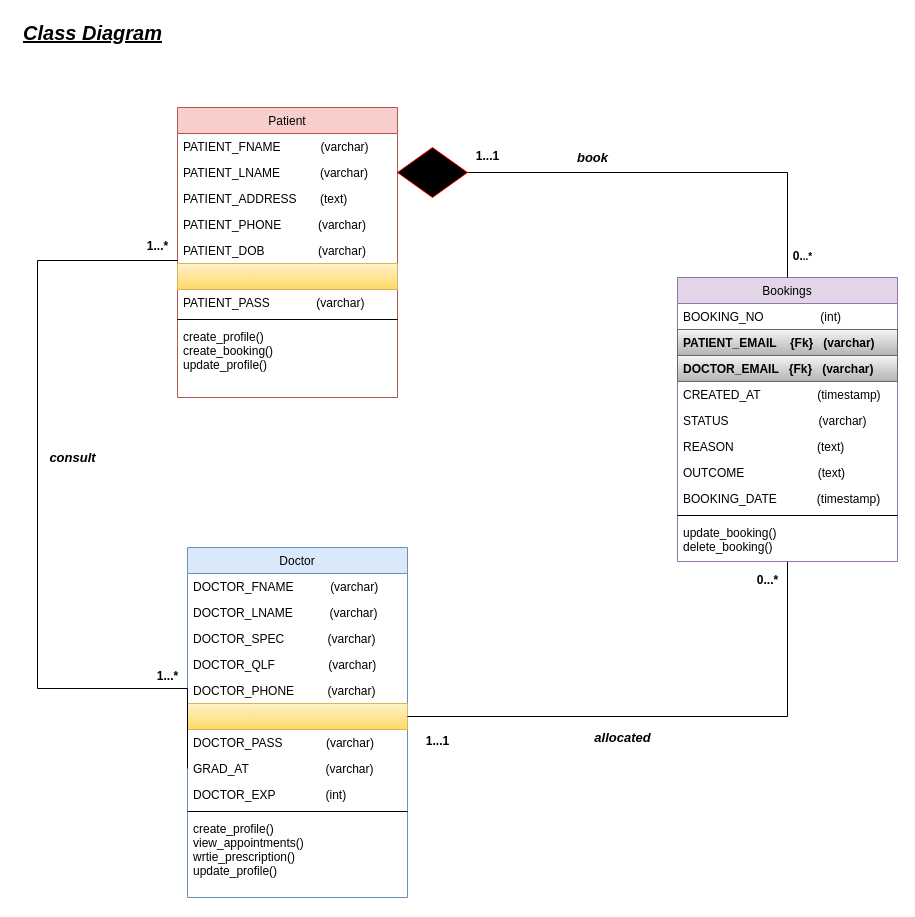
This 915x917 diagram has some shape labels left out. The centre of each missing label's shape, as x and y in pixels:
DOCTOR_EMAIL {Pk} (varchar): the point at 297,716
PATIENT_EMAIL {Pk} (varchar): the point at 287,276
